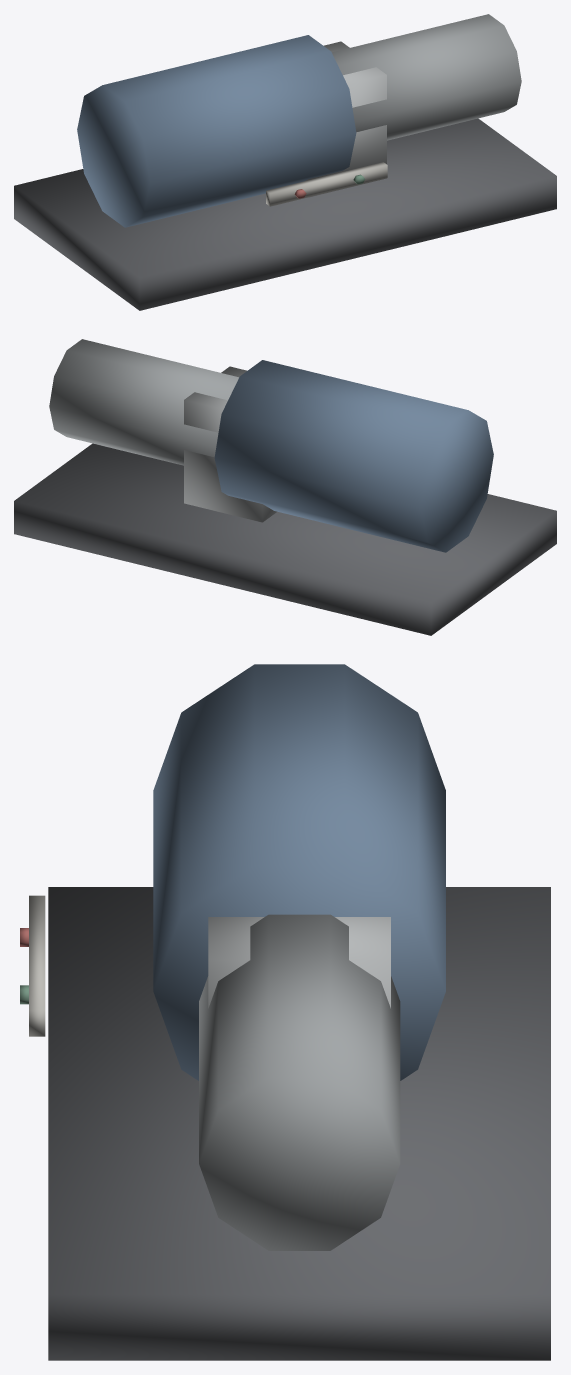
The model's file is circulation_pump__wide.glb.
3 views of the same model, one above another, from view 1: azimuth 30°, elevation 25°; view 2: azimuth 150°, elevation 25°; view 3: azimuth 270°, elevation 25° (orthographic). The views are drawn at different scales.
Parts seen in each view (by area): view 1: world; view 2: world; view 3: world.
Boxes of the visible parts, left/top/right/bottom form: world: left=14, top=14, right=556, bottom=310; world: left=14, top=339, right=556, bottom=635; world: left=20, top=664, right=550, bottom=1360.
Bounding box in the file's own units: 1.06 × 0.3922 × 0.581.
